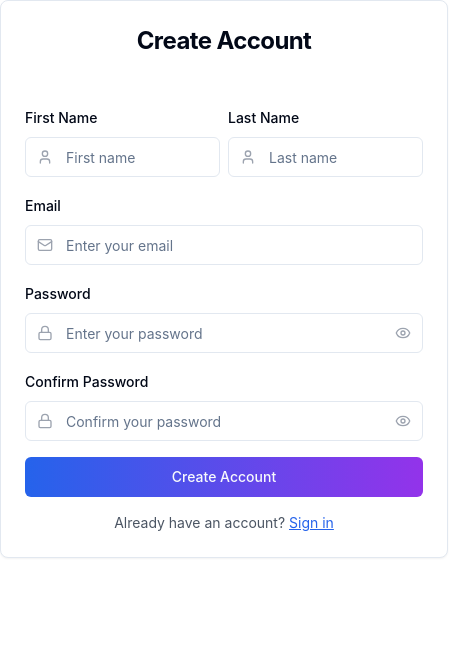
Test: RegisterForm › displays error message on registration failure
Type "John" into the field labelled "First Name" at (122, 157), box [25,137,220,177]
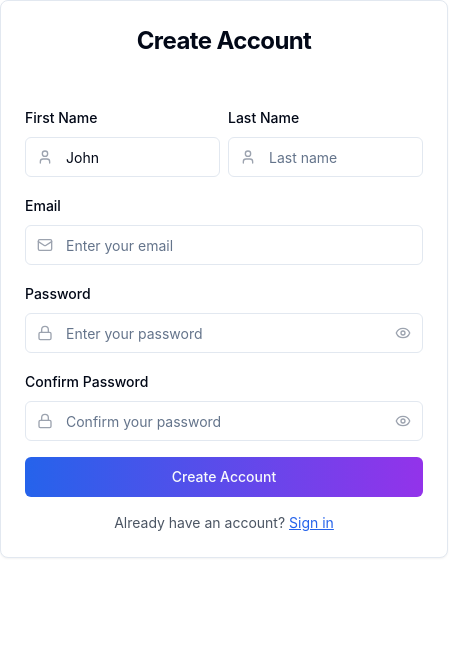
Type "Doe" into the field labelled "Last Name" at (326, 157), box [228,137,423,177]
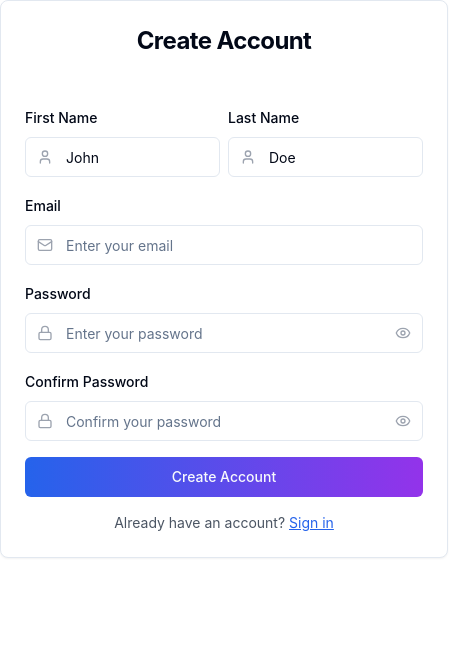
Type "existing@example.com" into the field labelled "Email" at (224, 245), box [25,225,423,265]
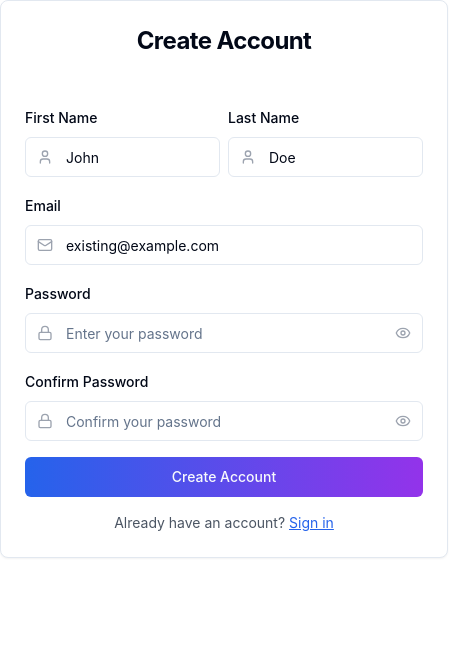
Type "password123" into the password field labelled "Password" at (224, 333), box [25,313,423,353]
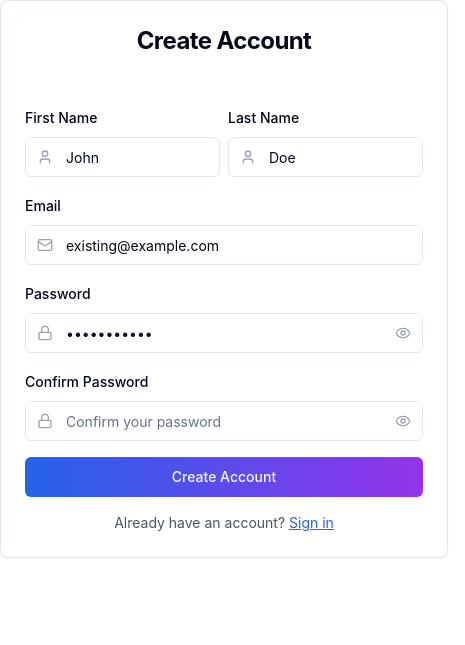
Type "password123" into the password field labelled "Confirm Password" at (224, 421), box [25,401,423,441]
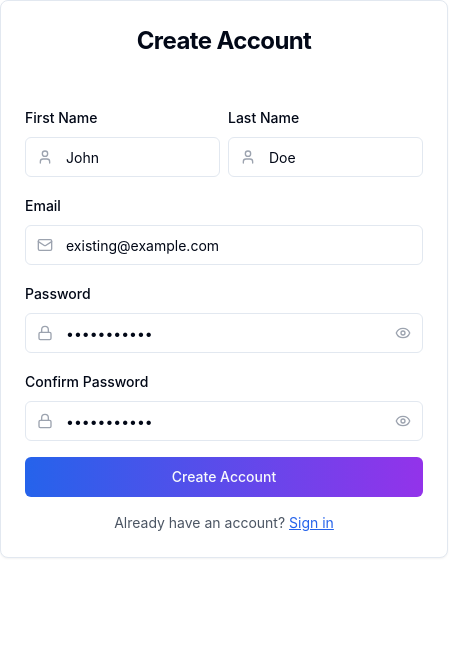
Click the button "Create Account" at (224, 477), box [25,457,423,497]
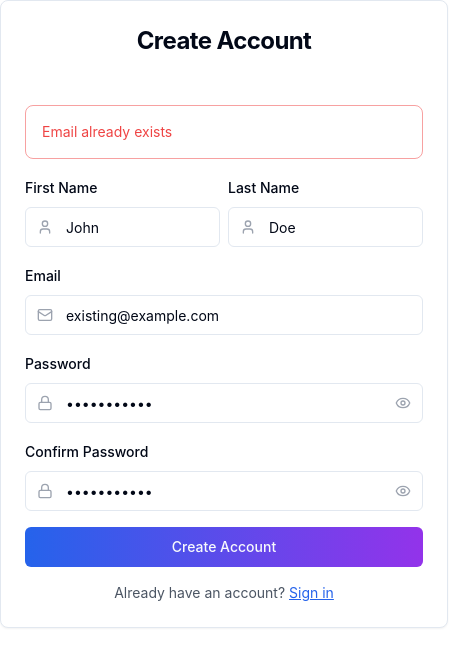
Check: the text "Email already exists" is shown, box [42,123,172,140]
